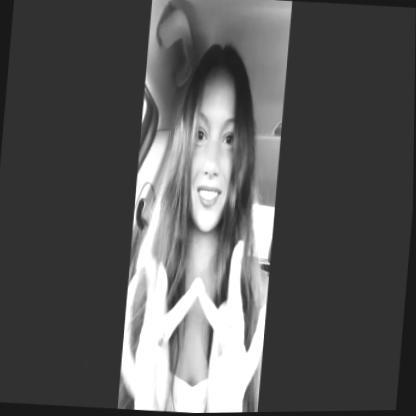Internet: (117, 230, 275, 415)
